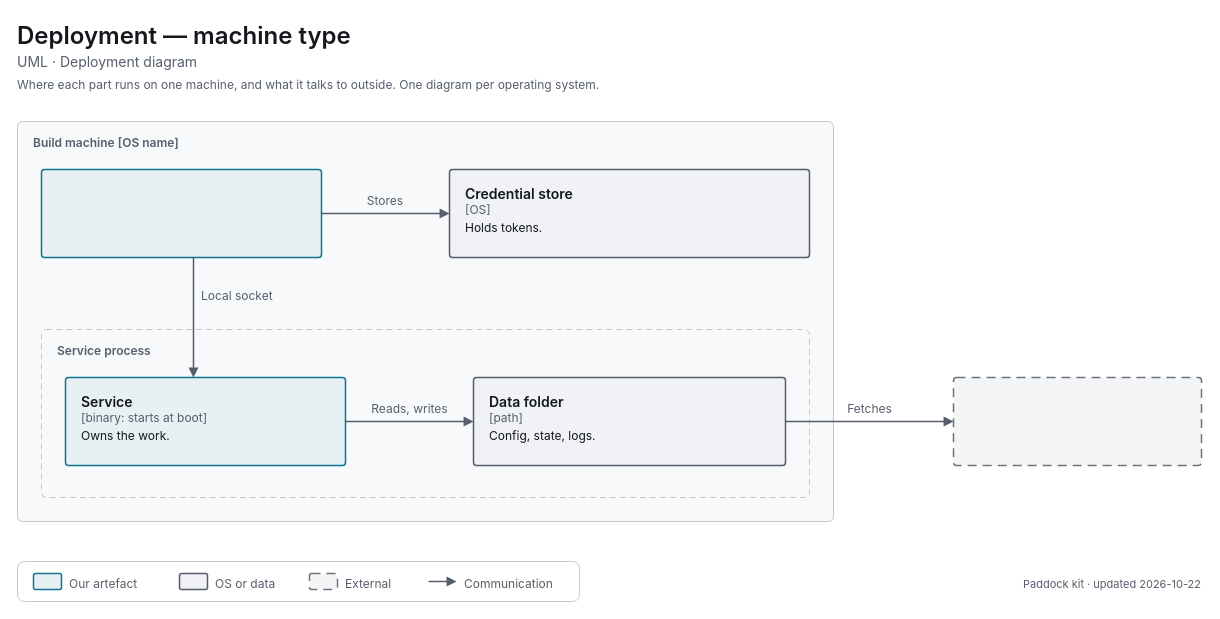
Image size: 1220x619. Some labels were removed from this diagram. The centre of each missing label's shape, as x and y in pixels:
App [binary: runs as the user] Window and tray.: (181,213)
External system [HTTPS] Who the service calls.: (1077,421)
